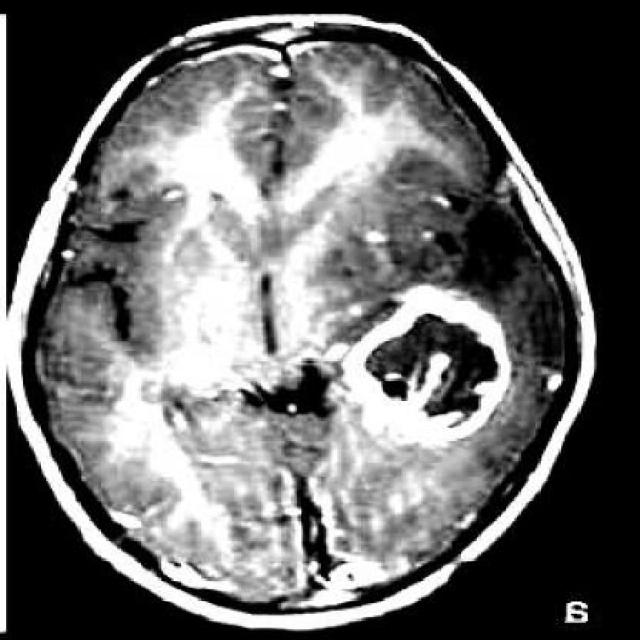Tumor: (350, 294, 515, 429)
